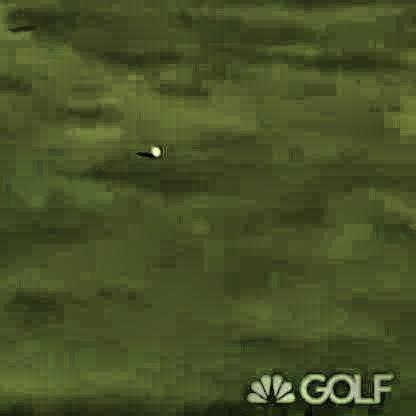golfball: (148, 143, 161, 156)
